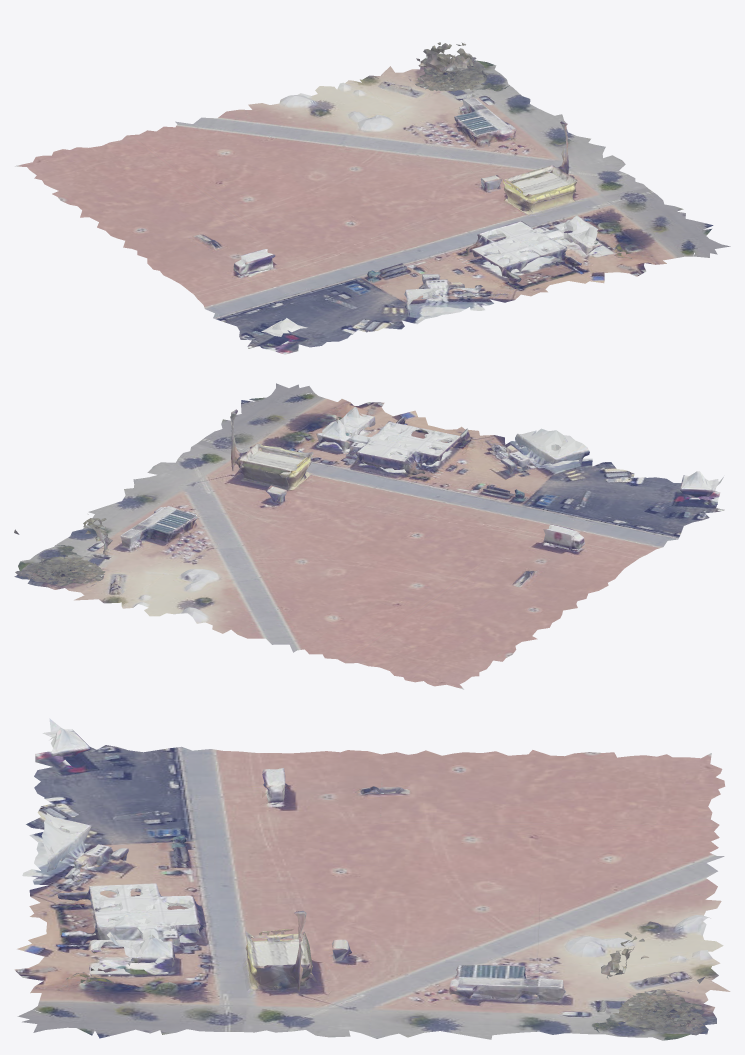
3 views of the same model, one above another, from view 1: azimuth 30°, elevation 25°; view 2: azimuth 150°, elevation 25°; view 3: azimuth 270°, elevation 25° (orthographic). The views are drawn at different scales.
Bounding box in the file's own units: 108 × 17.21 × 109.
Materials: 1 (1 with a texture image).
